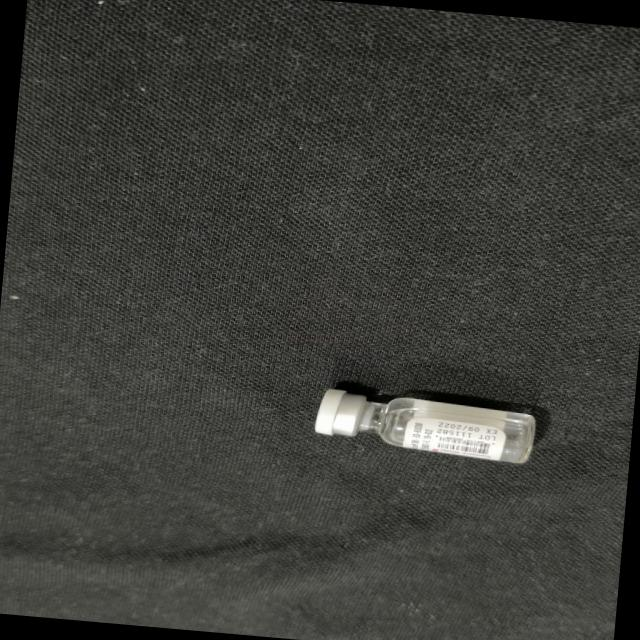fentanl_citrat: (316, 388, 534, 462)
